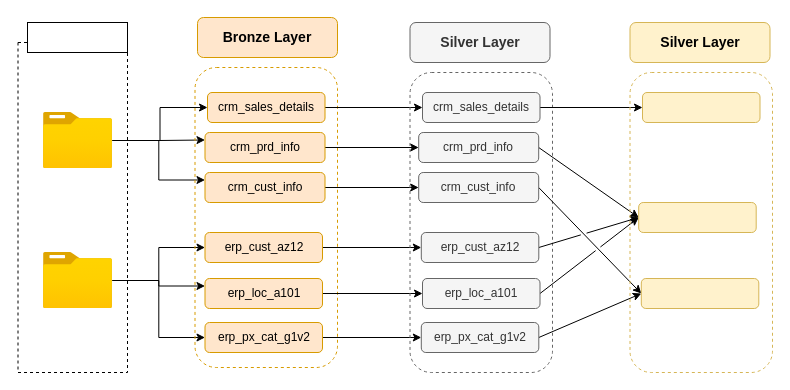
Some shapes in this 790 by 390 pixel diagram are drawn without their labels. Each missing label, with the centre of its shape:
CRM: (77,140)
dim_customers: (697,217)
dim_products: (699,293)
ERP: (77,280)
facts: (701,107)
Sources: (77,37)
